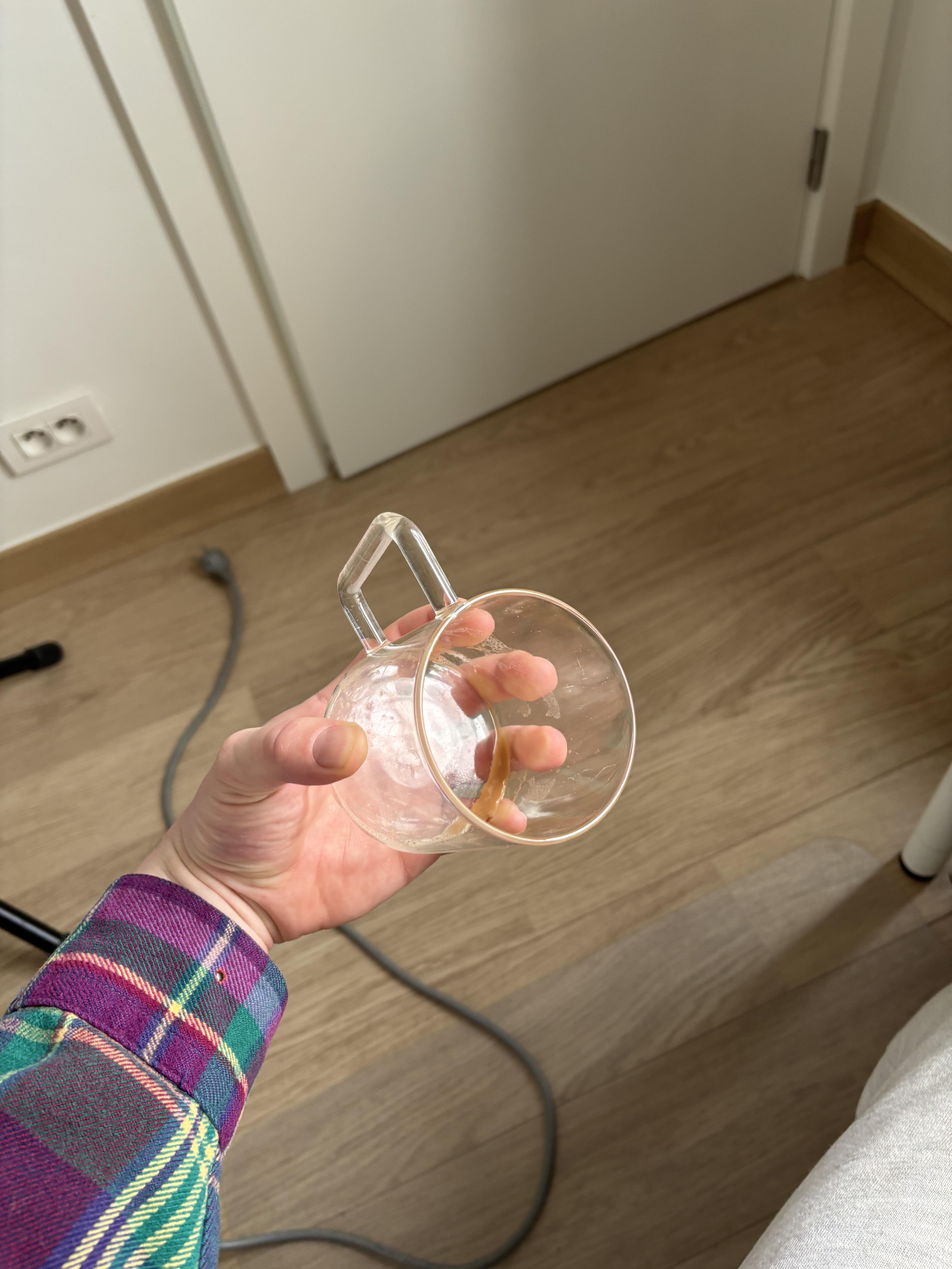Glass: (324, 499, 647, 861)
